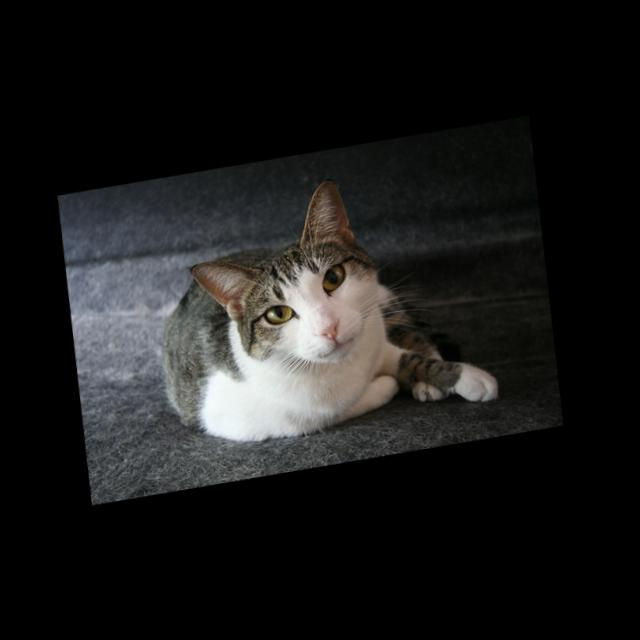animals: (184, 177, 371, 361)
